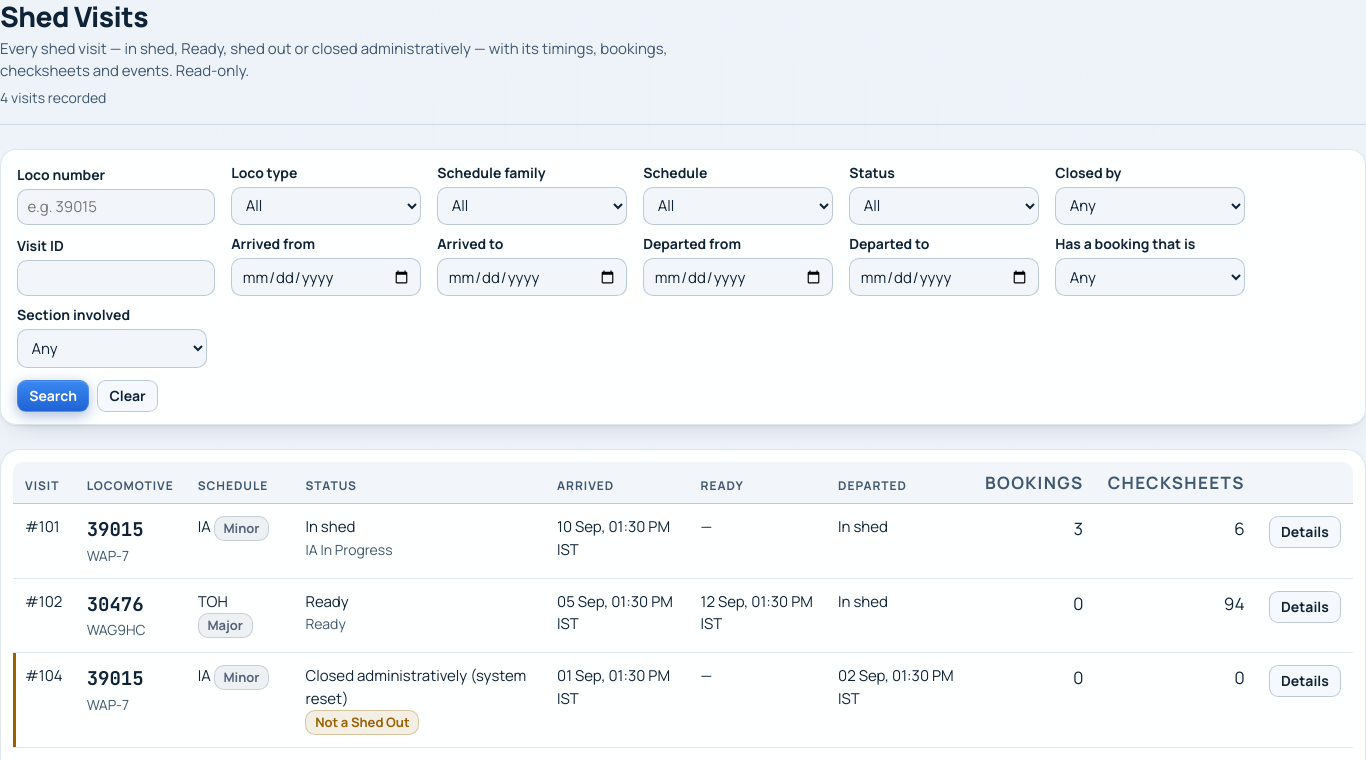
Test: Shed Visit History - the list › says when a search finds nothing
The width and height of the screenshot is (1366, 760).
Type "99999" into the field labelled "Loco number" at (116, 207), box [17,189,215,225]
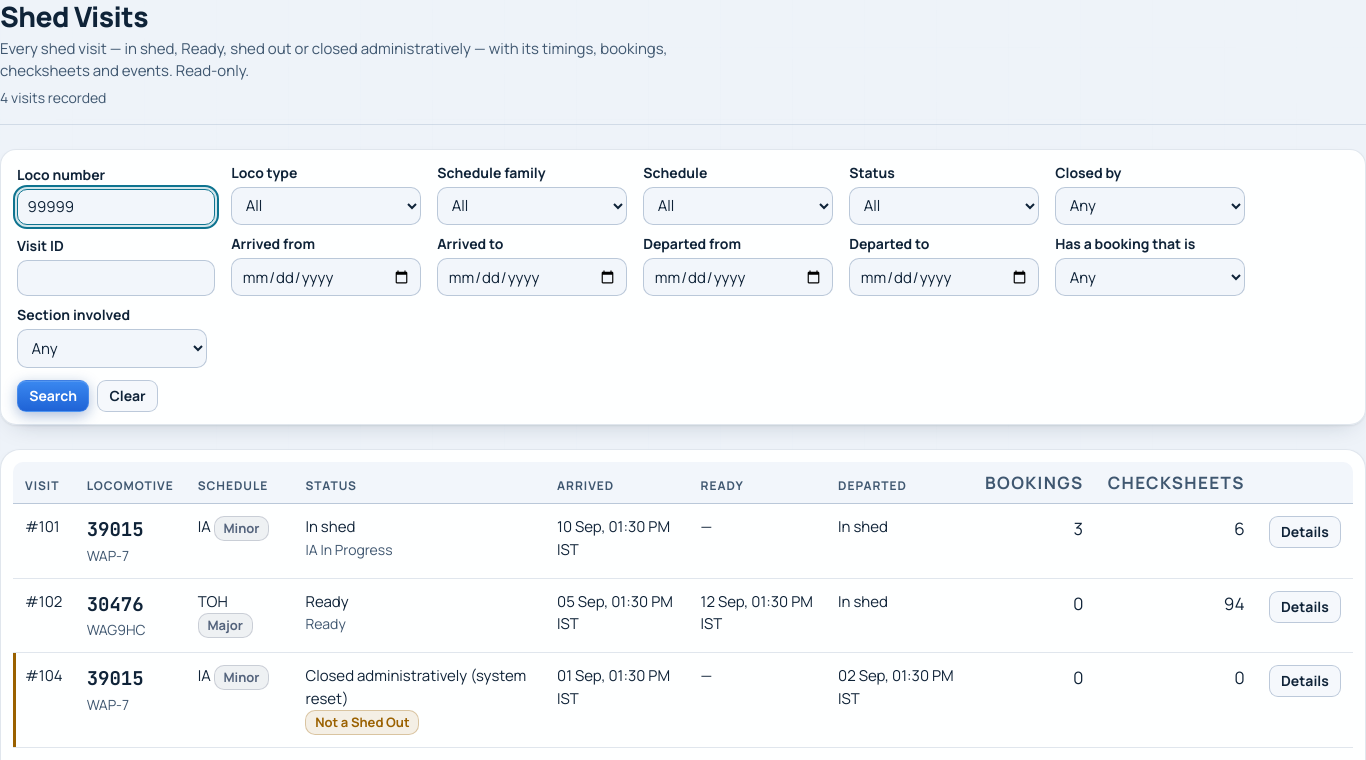
Click the button "Search" at (53, 396), box [17,380,89,412]
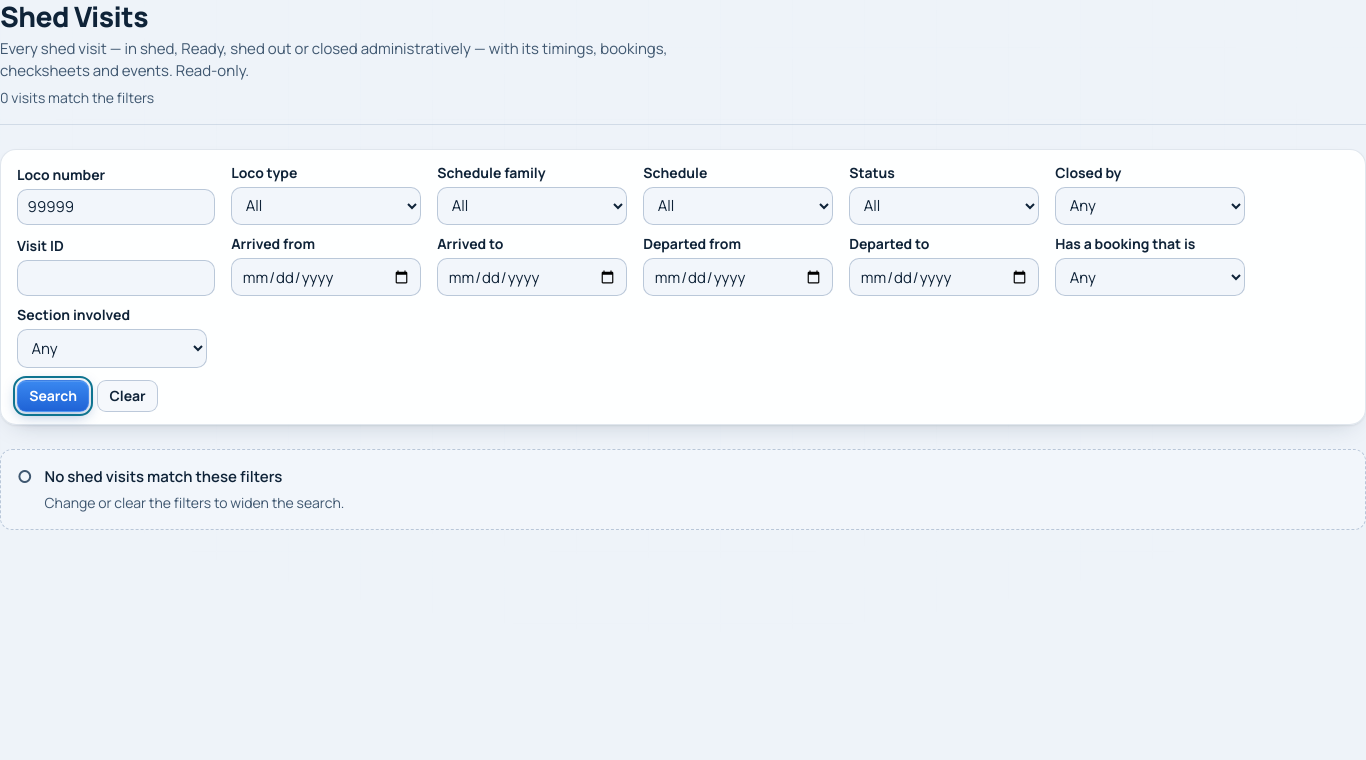
Expected: the text "No shed visits match these filters" is shown, [44,466,282,487]
